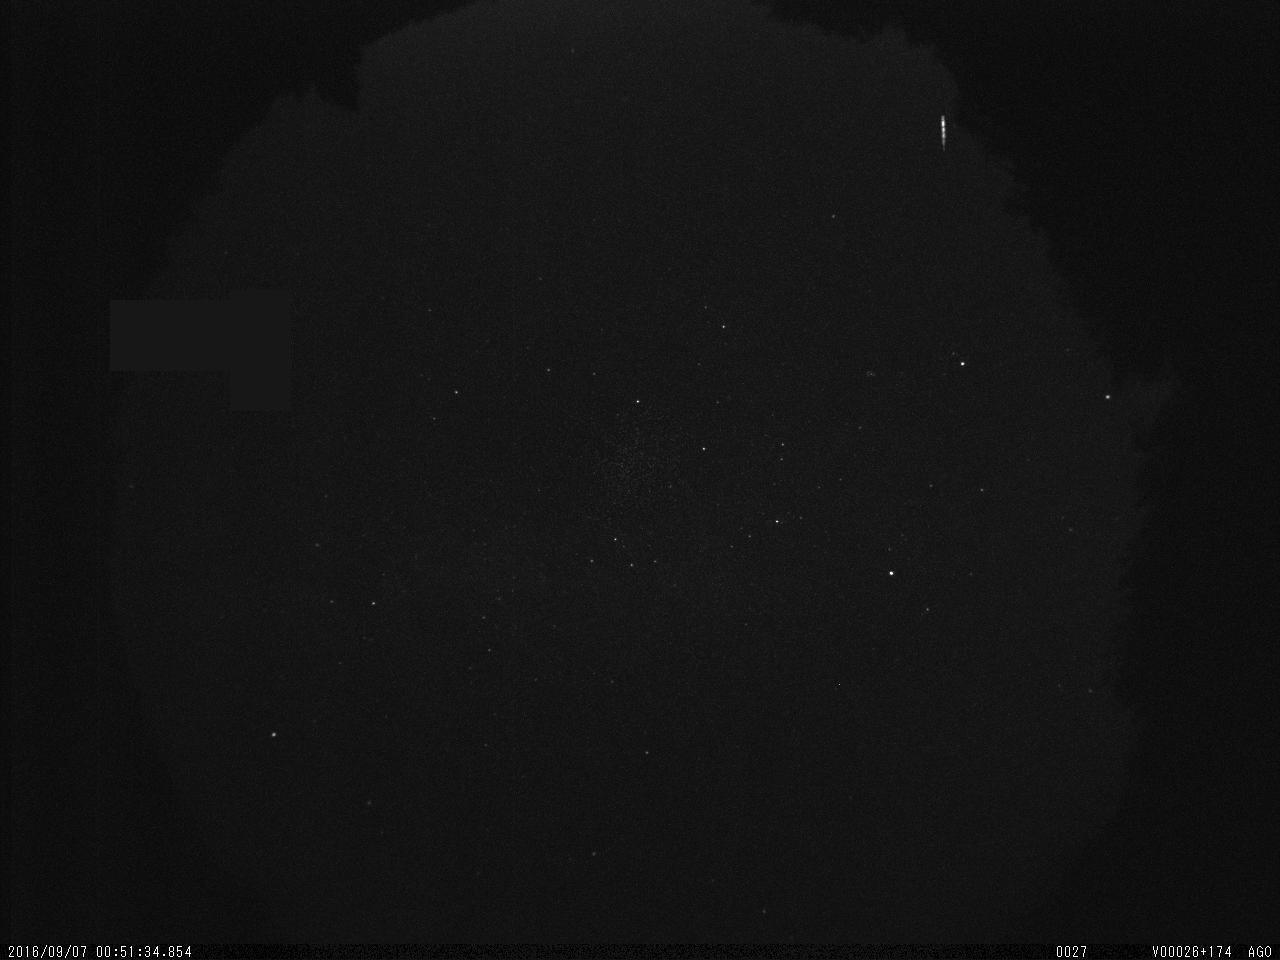Meteor: (937, 111, 951, 152)
